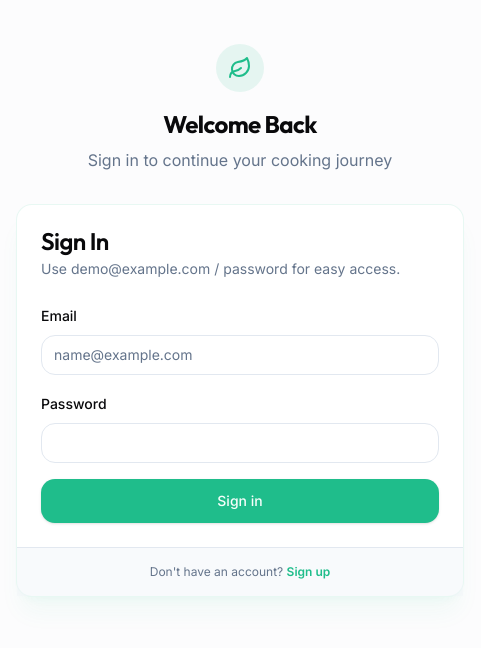
Test: LoginPage › shows validation errors for empty fields
The image size is (481, 648).
Click the button "Sign in" at (240, 500), box [41,478,439,522]
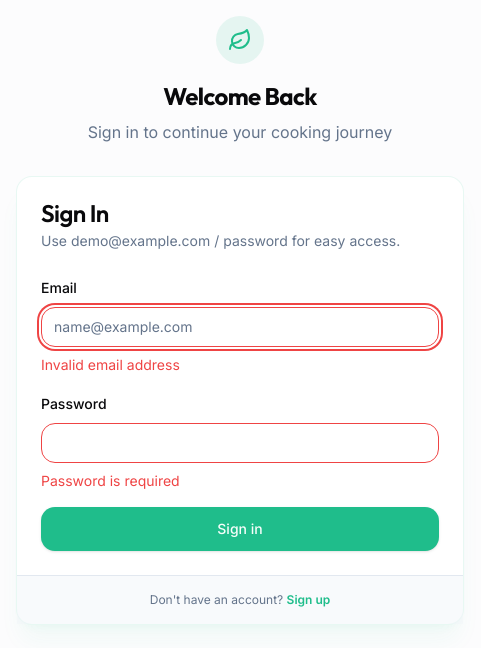
Check: the text "Invalid email address" is shown, box [41,356,180,372]
Check: the text "Password is required" is shown, box [41,472,180,488]
